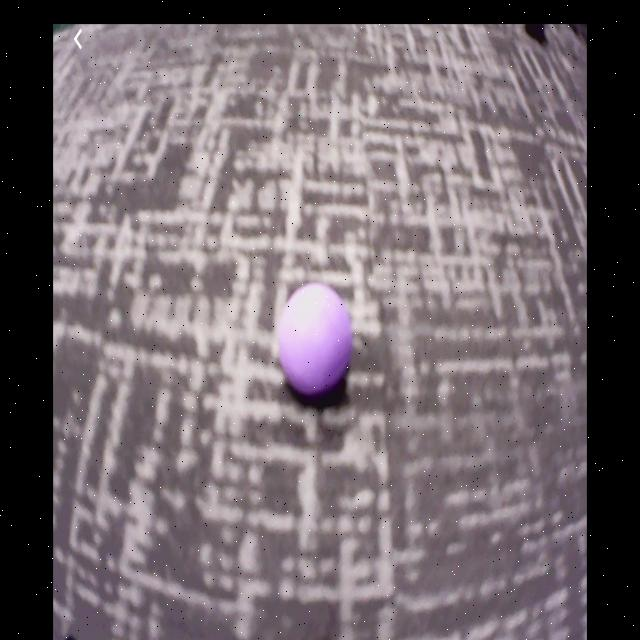ball: (279, 285, 353, 392)
